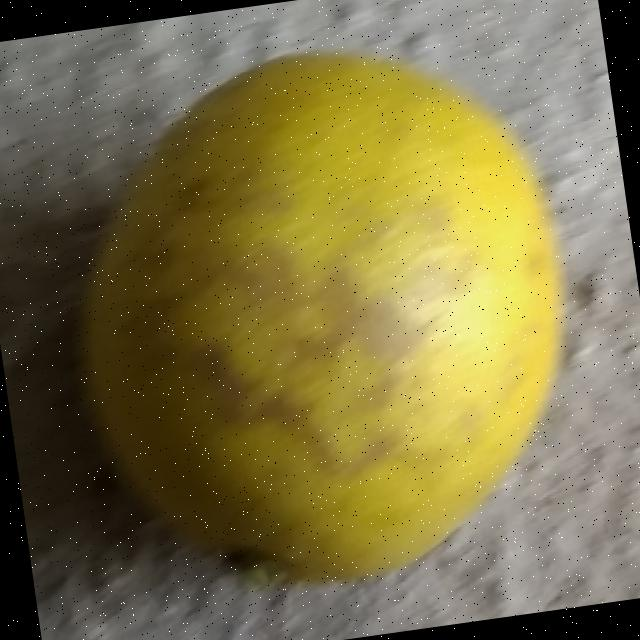overripe: (39, 15, 598, 618)
